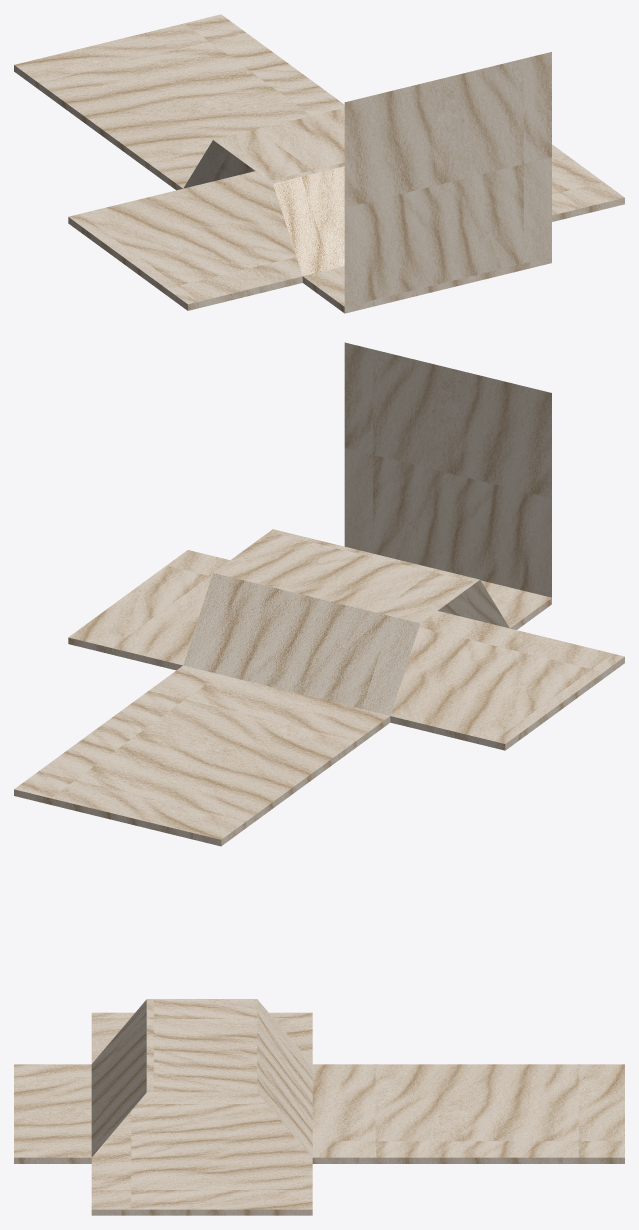
3 views of the same model, one above another, from view 1: azimuth 30°, elevation 25°; view 2: azimuth 150°, elevation 25°; view 3: azimuth 270°, elevation 25° (orthographic). The views are drawn at different scales.
Visible parts, largest first — view 1: Plane.001; view 2: Plane.001; view 3: Plane.001.
Boxes of the visible parts, box(x1,y1,x2,y2) form: Plane.001: box(14, 14, 624, 313); Plane.001: box(14, 342, 624, 846); Plane.001: box(14, 999, 624, 1215).
Size of the model in its own units: 30.05 by 13.88 by 39.39.
Materials: 1 (1 with a texture image).
